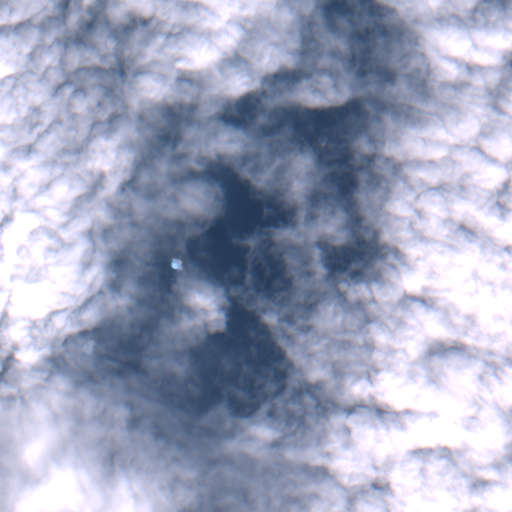Iceberg: (82, 340, 94, 353), (171, 258, 182, 269)
